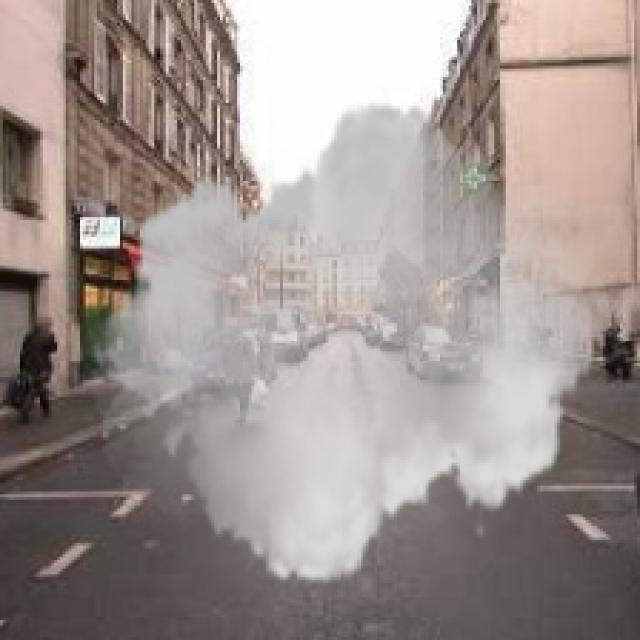Smoke: (91, 83, 606, 603)
